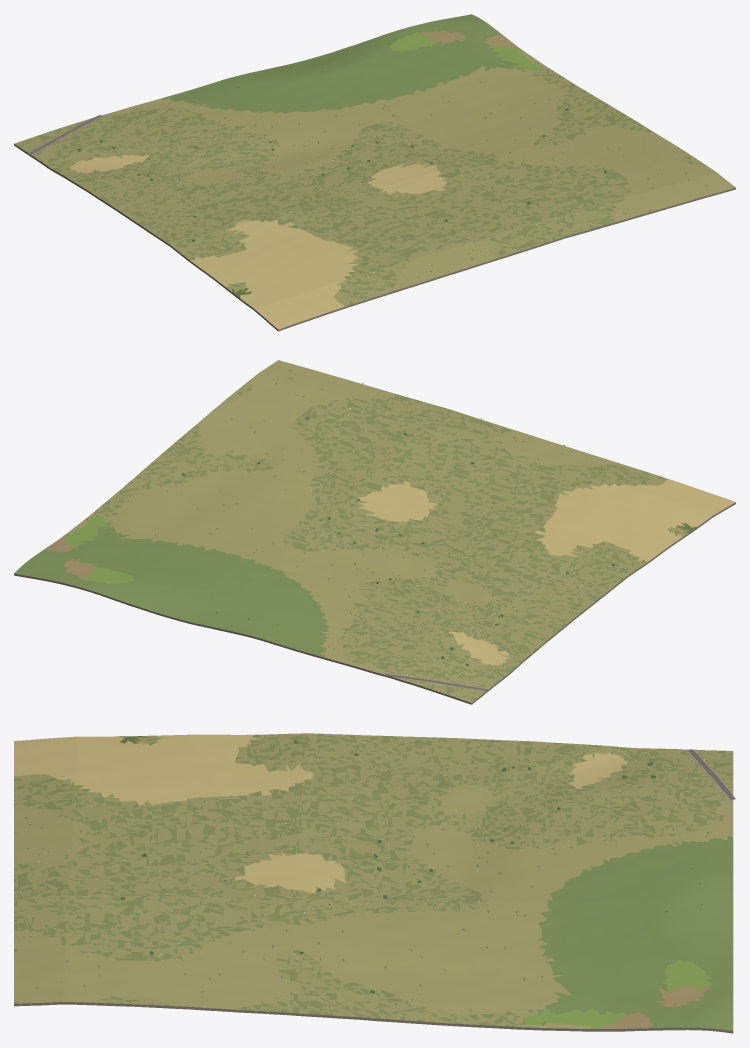
The model's file is parca_-1_-2-yakin.glb.
3 renders of one model, top to bottom at view 1: azimuth 30°, elevation 25°; view 2: azimuth 150°, elevation 25°; view 3: azimuth 270°, elevation 25°, orthographic. The views are drawn at different scales.
Visible parts, largest first — view 1: parca_-1_-2_arazi, parca_-1_-2_bitkiler; view 2: parca_-1_-2_arazi, parca_-1_-2_bitkiler; view 3: parca_-1_-2_arazi, parca_-1_-2_bitkiler.
Part boxes in pixels (left/top/right/bottom): parca_-1_-2_arazi: left=14, top=14, right=735, bottom=331; parca_-1_-2_bitkiler: left=56, top=32, right=707, bottom=297; parca_-1_-2_arazi: left=14, top=360, right=735, bottom=704; parca_-1_-2_bitkiler: left=65, top=369, right=616, bottom=678; parca_-1_-2_arazi: left=14, top=733, right=733, bottom=1033; parca_-1_-2_bitkiler: left=14, top=738, right=709, bottom=1025.
Bounding box in the file's own units: 1001 × 86.77 × 1004.
